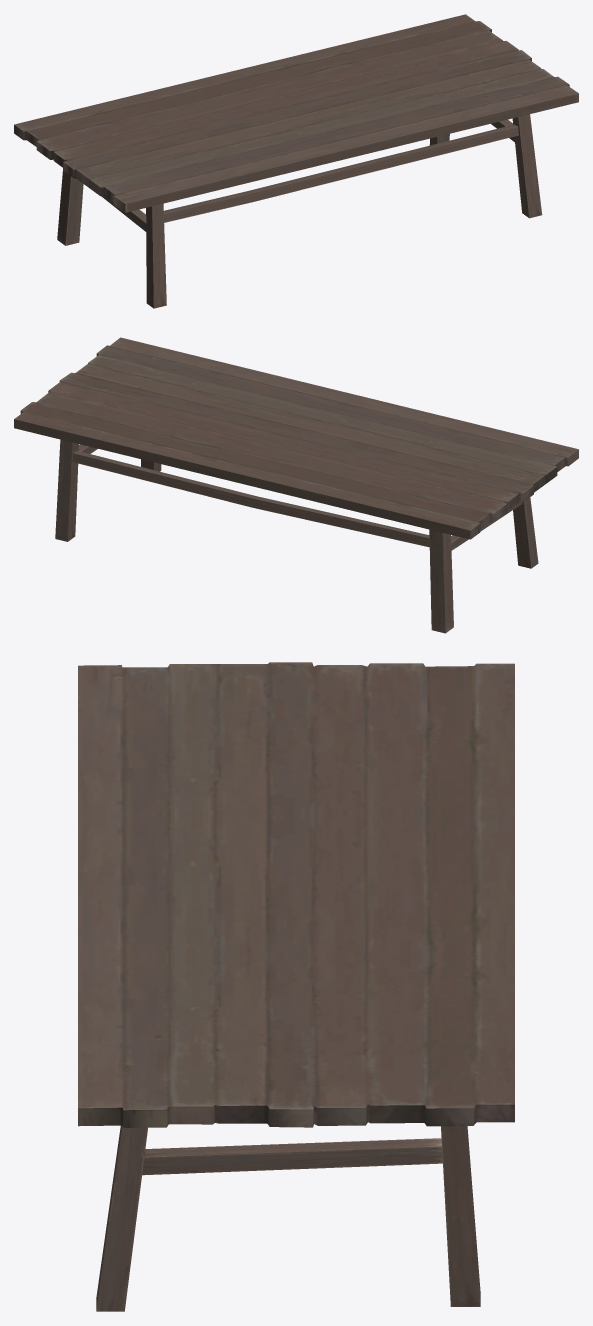
The model's file is Homeworld_Interior_Cyg_Table_Prop_Mutou_01_Vo.fbx.
3 renders of one model, top to bottom at view 1: azimuth 30°, elevation 25°; view 2: azimuth 150°, elevation 25°; view 3: azimuth 270°, elevation 25°, orthographic. The views are drawn at different scales.
Parts seen in each view (by area): view 1: Area_Cyg_Prop_QYZ_Zhuozi_02_Vo; view 2: Area_Cyg_Prop_QYZ_Zhuozi_02_Vo; view 3: Area_Cyg_Prop_QYZ_Zhuozi_02_Vo.
Boxes of the visible parts, x1,y1,x2,y2 form: Area_Cyg_Prop_QYZ_Zhuozi_02_Vo: (14,14,578,308); Area_Cyg_Prop_QYZ_Zhuozi_02_Vo: (14,337,578,633); Area_Cyg_Prop_QYZ_Zhuozi_02_Vo: (78,662,514,1311).
Size of the model in its own units: 3.2 by 0.7813 by 1.32.
1 material, 1 textured.
